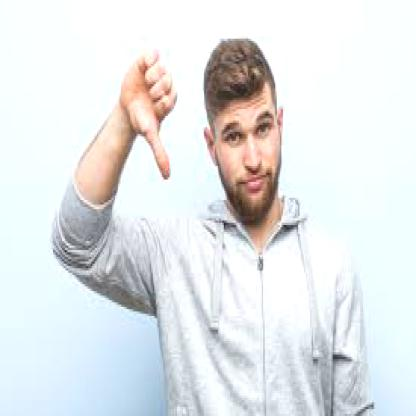Thumbs Down: (106, 43, 181, 166)
